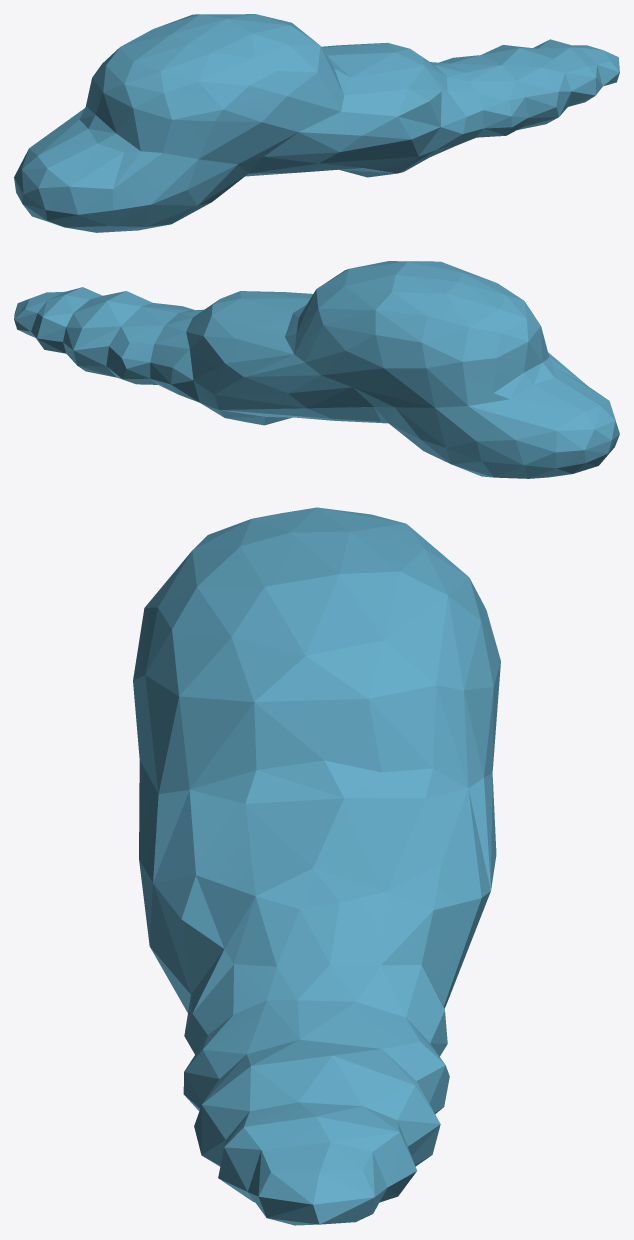
File: oval_cloud_3.fbx
3 renders of one model, top to bottom at view 1: azimuth 30°, elevation 25°; view 2: azimuth 150°, elevation 25°; view 3: azimuth 270°, elevation 25°, orthographic. The views are drawn at different scales.
Parts seen in each view (by area): view 1: cloud_63; view 2: cloud_63; view 3: cloud_63.
Boxes of the visible parts, bbox=[...] form: cloud_63: bbox=[14, 14, 619, 232]; cloud_63: bbox=[14, 261, 619, 478]; cloud_63: bbox=[133, 507, 500, 1225].
Size of the model in its own units: 817 by 237 by 219.
